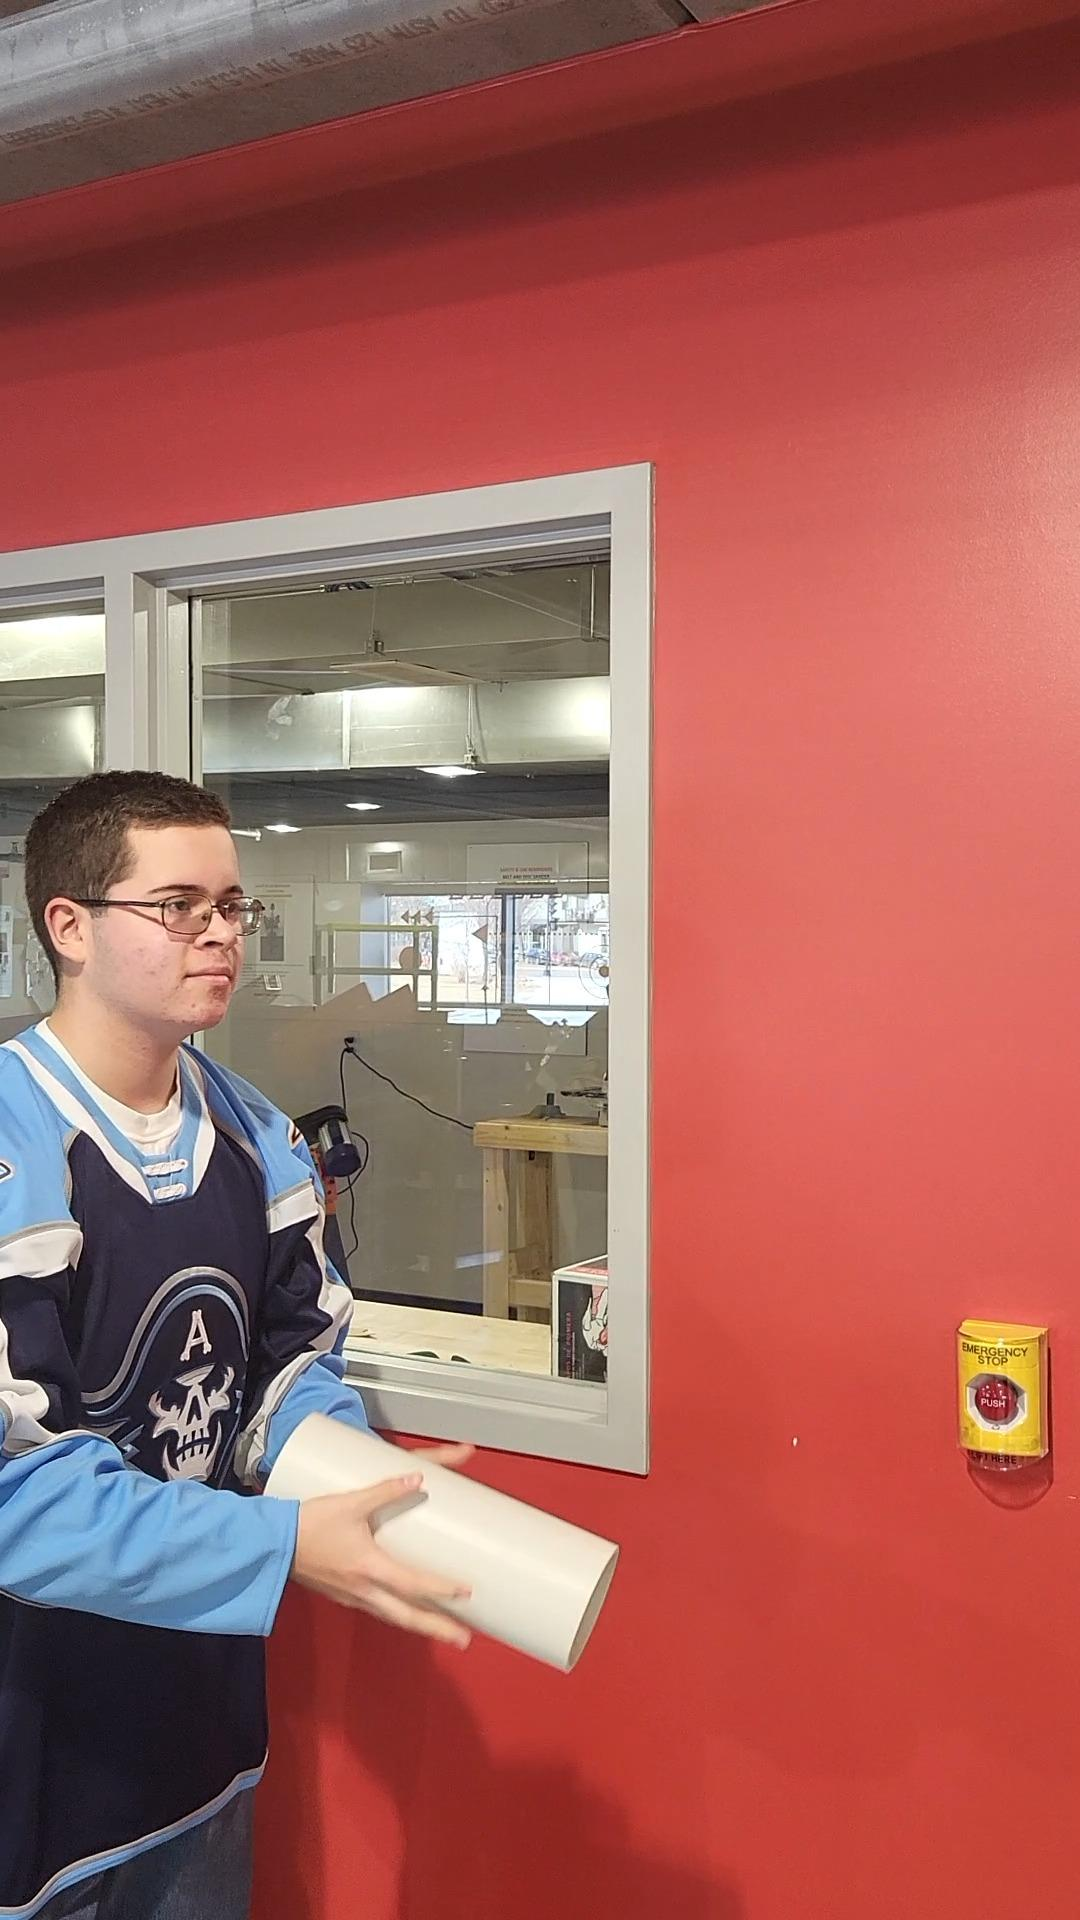coral: (253, 1411, 626, 1669)
